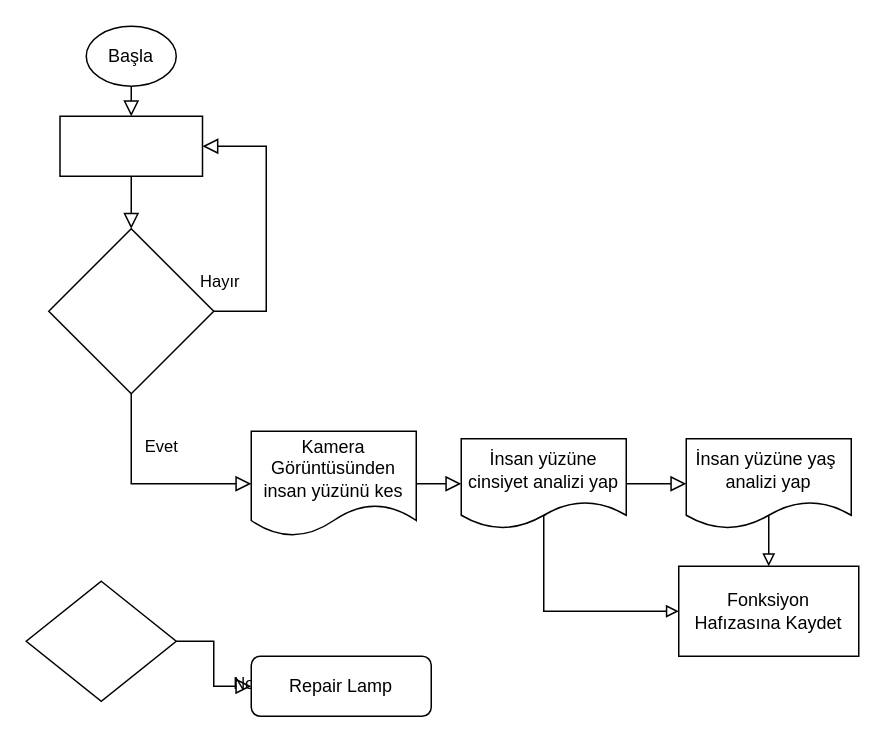
The diagram is 885 pixels wide and 743 high, and some of its shapes have lost their labels. The centre of each missing label's shape, as x and y in pixels:
"Bulb burned out?" goes at point 100,640.
"Görüntüde i nsan yüzü var mı?" goes at point 130,310.
"Kameradan Görüntüyü Al" goes at point 130,145.
